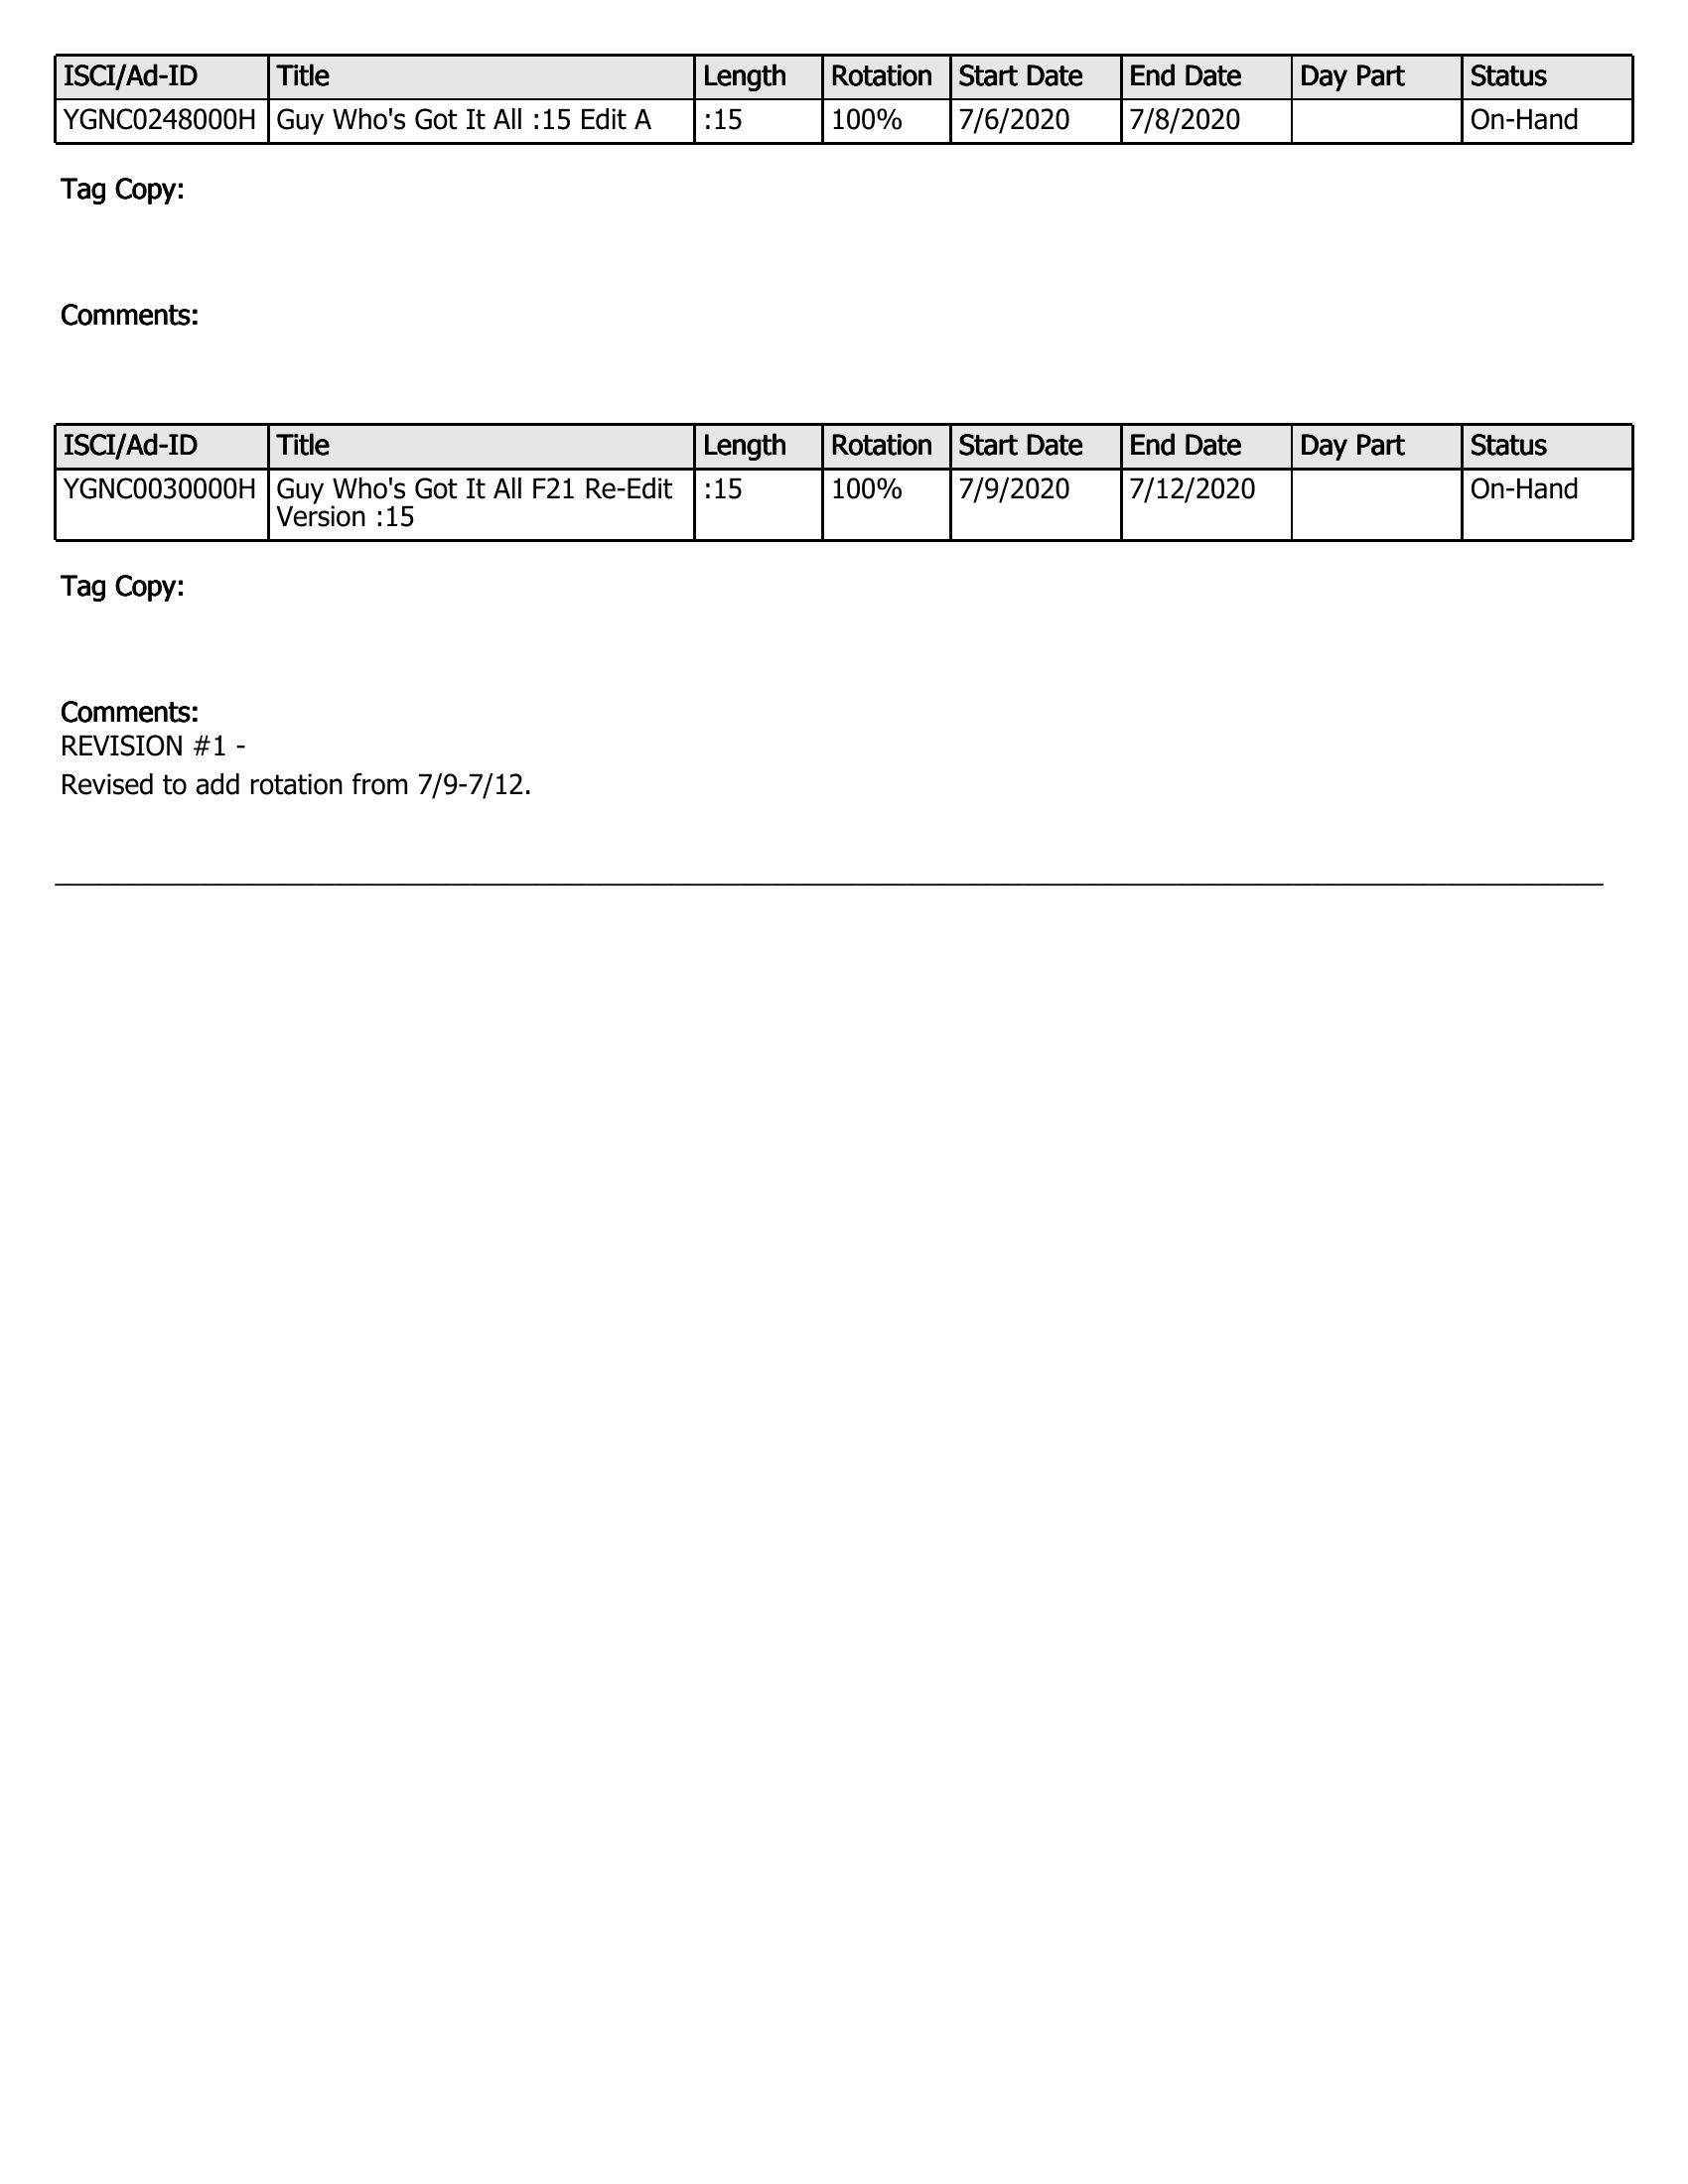table: (30, 404, 1656, 564), (28, 28, 1658, 167)
